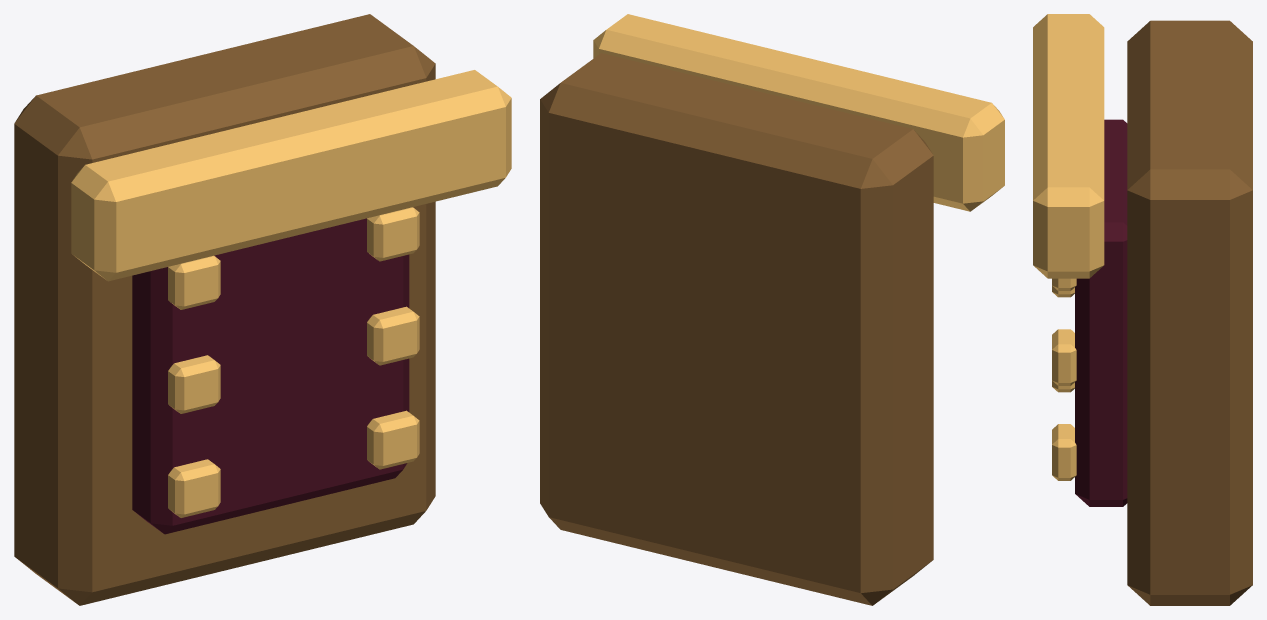
File: SM_S3Bridge_FilmClip.fbx
3 renders of one model, left to right at view 1: azimuth 30°, elevation 25°; view 2: azimuth 150°, elevation 25°; view 3: azimuth 270°, elevation 25°, orthographic. The views are drawn at different scales.
Parts seen in each view (by area): view 1: SM_S3Bridge_FilmClip; view 2: SM_S3Bridge_FilmClip; view 3: SM_S3Bridge_FilmClip.
Part boxes in pixels (x1,y1,x2,y2): SM_S3Bridge_FilmClip: [14, 14, 511, 605]; SM_S3Bridge_FilmClip: [540, 14, 1004, 605]; SM_S3Bridge_FilmClip: [1033, 14, 1252, 605].
Bounding box in the file's own units: 21 × 10.5 × 23.
